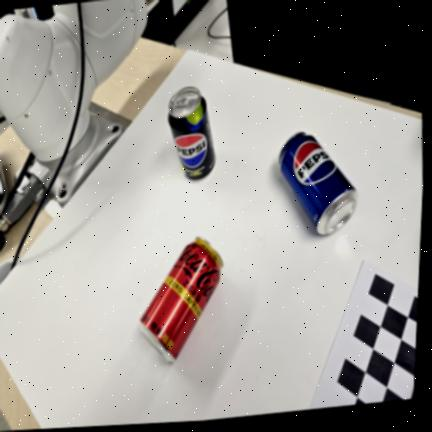can_coke_decaf: (138, 237, 223, 362)
can_pepsi: (278, 131, 359, 235)
can_pepsi_zero: (168, 86, 216, 180)
